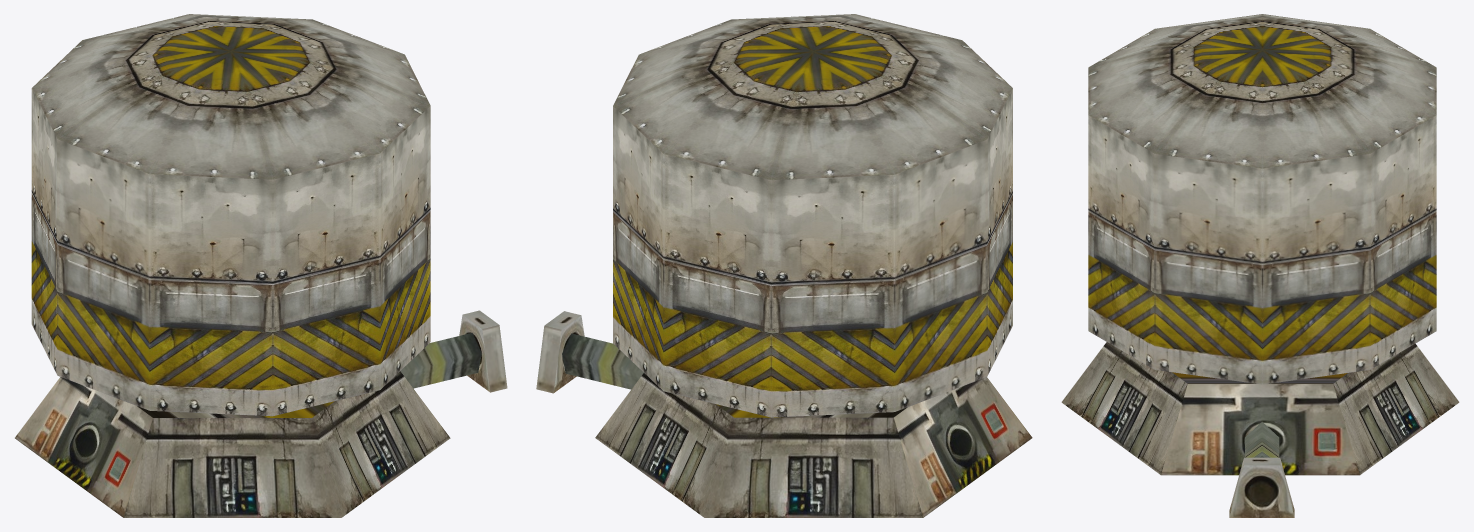
The model's file is largefueltank_hdtex.glb.
3 views of the same model, side by side, from view 1: azimuth 30°, elevation 25°; view 2: azimuth 150°, elevation 25°; view 3: azimuth 270°, elevation 25° (orthographic). The views are drawn at different scales.
Visible parts, largest first — view 1: BigAssTank; view 2: BigAssTank; view 3: BigAssTank.
Part boxes in pixels (x1,y1,x2,y2): BigAssTank: [15, 14, 507, 517]; BigAssTank: [536, 14, 1032, 517]; BigAssTank: [1061, 14, 1459, 517].
Bounding box in the file's own units: 21.38 × 18.3 × 18.7.
Materials: 1 (1 with a texture image).
